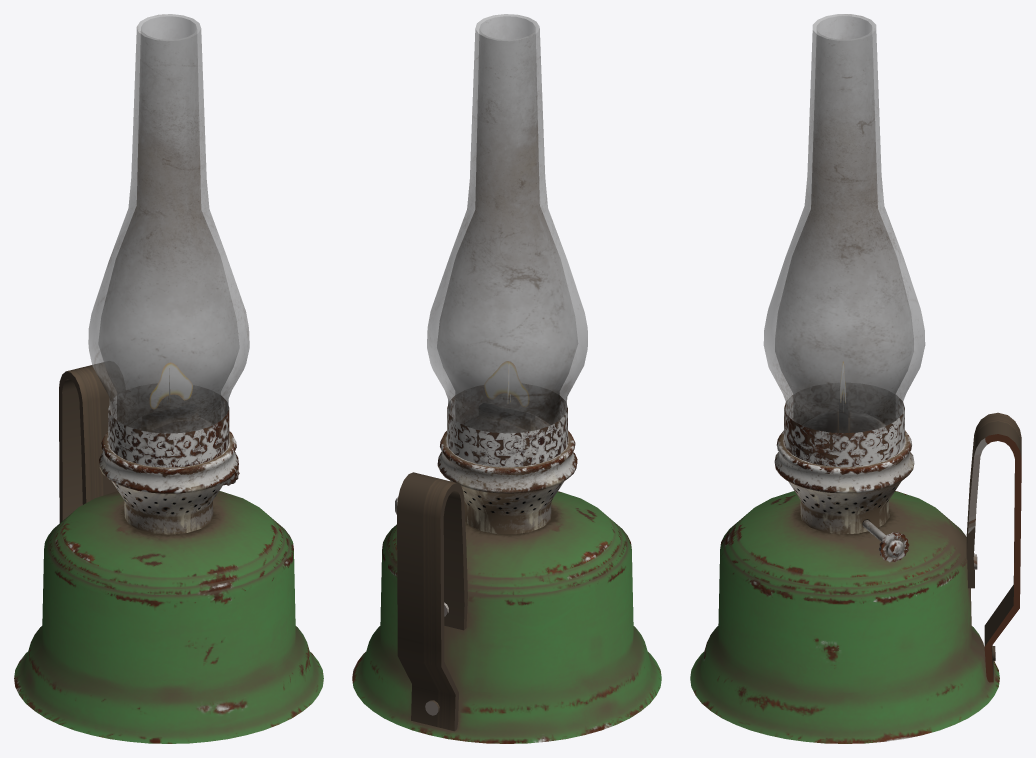
Rendered from OilLamp.fbx.
3 renders of one model, left to right at view 1: azimuth 30°, elevation 25°; view 2: azimuth 150°, elevation 25°; view 3: azimuth 270°, elevation 25°, orthographic.
Visible parts, largest first — view 1: Main_LowPoly, Glass_LowPoly, MetalBase_LowPoly, Holder_LowPoly, Corona_LowPoly, Fire.001, Rope_LowPoly, Handle_LowPoly; view 2: Main_LowPoly, Glass_LowPoly, Holder_LowPoly, MetalBase_LowPoly, Corona_LowPoly, Fire.001, Rope_LowPoly, Handle_LowPoly; view 3: Main_LowPoly, Glass_LowPoly, MetalBase_LowPoly, Holder_LowPoly, Corona_LowPoly, Handle_LowPoly, Wint_LowPoly.
Boxes of the visible parts, x1=… form: Main_LowPoly: x1=14, y1=491, x2=323, y2=743; Glass_LowPoly: x1=88, y1=14, x2=249, y2=433; MetalBase_LowPoly: x1=99, y1=431, x2=238, y2=534; Holder_LowPoly: x1=59, y1=362, x2=117, y2=522; Corona_LowPoly: x1=108, y1=385, x2=229, y2=467; Fire.001: x1=150, y1=362, x2=192, y2=408; Rope_LowPoly: x1=142, y1=404, x2=198, y2=431; Handle_LowPoly: x1=127, y1=410, x2=213, y2=433; Main_LowPoly: x1=352, y1=491, x2=661, y2=743; Glass_LowPoly: x1=427, y1=14, x2=587, y2=433; Holder_LowPoly: x1=397, y1=472, x2=467, y2=731; MetalBase_LowPoly: x1=437, y1=430, x2=577, y2=534; Corona_LowPoly: x1=447, y1=384, x2=567, y2=467; Fire.001: x1=484, y1=361, x2=529, y2=406; Rope_LowPoly: x1=479, y1=403, x2=535, y2=430; Handle_LowPoly: x1=463, y1=409, x2=549, y2=432; Main_LowPoly: x1=690, y1=491, x2=999, y2=743; Glass_LowPoly: x1=763, y1=14, x2=925, y2=433; MetalBase_LowPoly: x1=774, y1=430, x2=914, y2=534; Holder_LowPoly: x1=966, y1=412, x2=1021, y2=682; Corona_LowPoly: x1=784, y1=383, x2=904, y2=467; Handle_LowPoly: x1=802, y1=410, x2=886, y2=432; Wint_LowPoly: x1=862, y1=520, x2=909, y2=562.
Size of the model in its own units: 0.1545 by 0.3583 by 0.1654.
